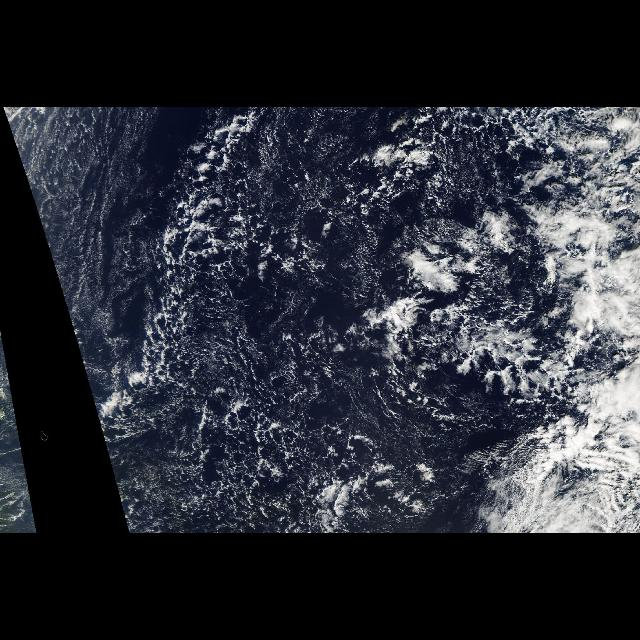Flower: (376, 221, 474, 369)
Gravel: (99, 114, 462, 534)
Sugar: (5, 109, 185, 404)
